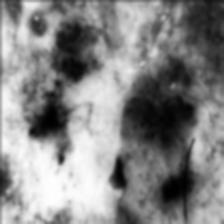Potentially Malignant Skin Tumors: (22, 25, 100, 143)
